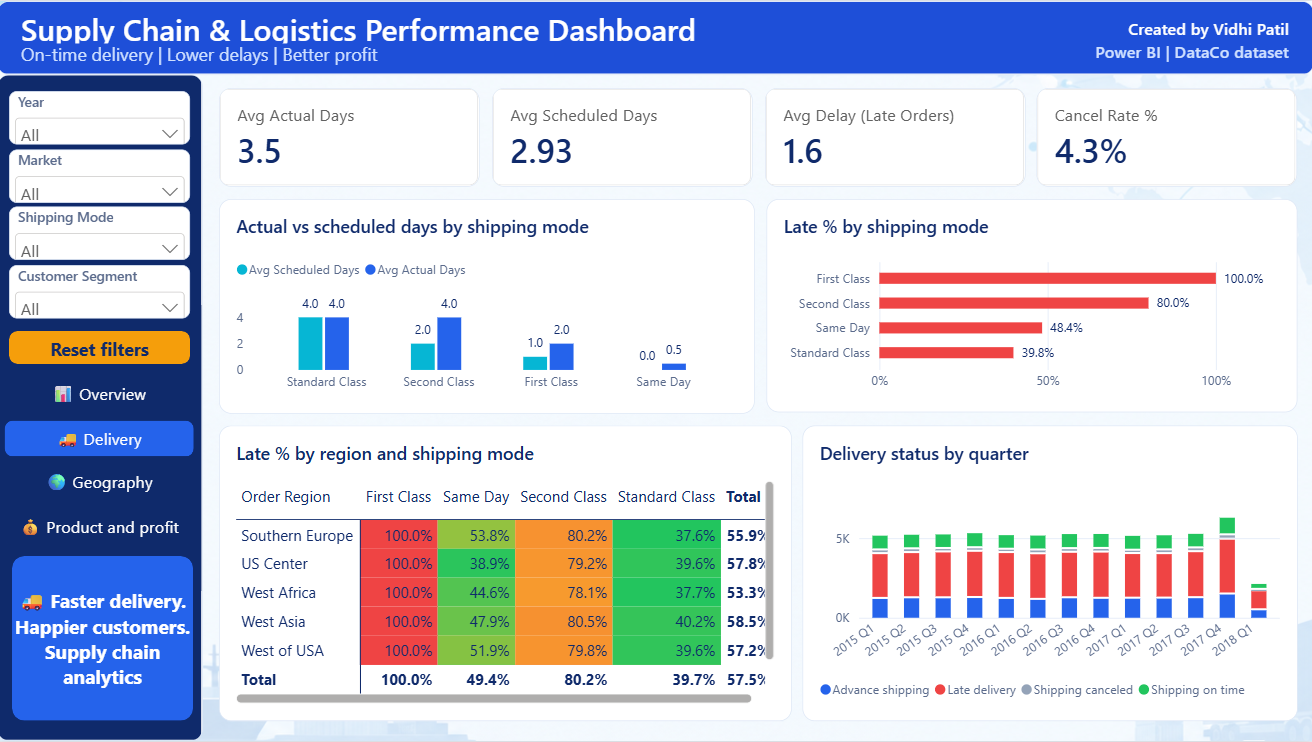

This screenshot's page, from the dashboard's own definition file:
{"tool":"powerbi","page":{"name":"🚚 Delivery","canvas":[1280,720],"ordinal":1},"visuals":[{"type":"shape","box":[0,0,1280,72],"z":0},{"type":"shape","box":[0,72,200,648],"z":1},{"type":"textbox","title":"Supply Chain & Logistics Performance Dashboard","box":[24,8,760,34],"z":2},{"type":"textbox","title":"On-time delivery | Lower delays | Better profit","box":[24,40,600,24],"z":3},{"type":"textbox","title":"Created by Vidhi Patil","box":[980,16,276,22],"z":4},{"type":"textbox","title":"Power BI | DataCo dataset","box":[980,38,276,22],"z":5},{"type":"slicer","fields":{"Values":["Dim_Date.Year"]},"box":[12,88,176,52],"z":6},{"type":"slicer","fields":{"Values":["Fact_Orders.Market"]},"box":[12,144,176,52],"z":7},{"type":"slicer","fields":{"Values":["Fact_Orders.Shipping Mode"]},"box":[12,200,176,52],"z":8},{"type":"slicer","fields":{"Values":["Fact_Orders.Customer Segment"]},"box":[12,256,176,52],"z":9},{"type":"actionButton","box":[12,320,176,32],"z":10},{"type":"pageNavigator","box":[8,364,184,164],"z":11},{"type":"shape","box":[14.6,539.4,176,160],"z":12},{"type":"cardVisual","fields":{"Data":["_Measures.Avg Actual Days"]},"box":[216,84,253,96],"z":13},{"type":"cardVisual","fields":{"Data":["_Measures.Avg Scheduled Days"]},"box":[481,84,253,96],"z":14},{"type":"cardVisual","fields":{"Data":["_Measures.Avg Delay (Late Orders)"]},"box":[746,84,253,96],"z":15},{"type":"cardVisual","fields":{"Data":["_Measures.Cancel Rate %"]},"box":[1011,84,253,96],"z":16},{"type":"clusteredColumnChart","title":"Actual vs scheduled days by shipping mode","fields":{"Category":["Fact_Orders.Shipping Mode"],"Y":["_Measures.Avg Scheduled Days","_Measures.Avg Actual Days"]},"box":[215.8,192.4,520.5,208.5],"z":17},{"type":"clusteredBarChart","title":"Late % by shipping mode","fields":{"Category":["Fact_Orders.Shipping Mode"],"Y":["_Measures.Late Delivery %"]},"box":[747.9,192.4,516.1,207],"z":18},{"type":"pivotTable","title":"Late % by region and shipping mode","fields":{"Columns":["Fact_Orders.Shipping Mode"],"Rows":["Fact_Orders.Order Region"],"Values":["_Measures.Late Delivery %"]},"box":[215.8,412.6,556.9,287.2],"z":19},{"type":"columnChart","title":"Delivery status by quarter","fields":{"Category":["Dim_Date.Year Quarter"],"Series":["Fact_Orders.Delivery Status"],"Y":["_Measures.Total Orders"]},"box":[782.9,412.6,481.1,287.2],"z":20}]}

Visuals, with their boxes in screenshot pixels (x1, y1, x2, y2), scaled from the page's 1280x720 canvas onto the 1312x742 screenshot:
shape: [0,0,1311,74]
shape: [0,74,205,741]
"Supply Chain & Logistics Performance Dashboard" textbox: [25,8,804,43]
"On-time delivery | Lower delays | Better profit" textbox: [25,41,640,66]
"Created by Vidhi Patil" textbox: [1004,16,1287,39]
"Power BI | DataCo dataset" textbox: [1004,39,1287,62]
slicer - Dim_Date.Year: [12,91,193,144]
slicer - Fact_Orders.Market: [12,148,193,202]
slicer - Fact_Orders.Shipping Mode: [12,206,193,260]
slicer - Fact_Orders.Customer Segment: [12,264,193,317]
actionButton: [12,330,193,363]
pageNavigator: [8,375,197,544]
shape: [15,556,195,721]
cardVisual - _Measures.Avg Actual Days: [221,87,481,185]
cardVisual - _Measures.Avg Scheduled Days: [493,87,752,185]
cardVisual - _Measures.Avg Delay (Late Orders): [765,87,1024,185]
cardVisual - _Measures.Cancel Rate %: [1036,87,1296,185]
"Actual vs scheduled days by shipping mode" clusteredColumnChart: [221,198,755,413]
"Late % by shipping mode" clusteredBarChart: [767,198,1296,412]
"Late % by region and shipping mode" pivotTable: [221,425,792,721]
"Delivery status by quarter" columnChart: [802,425,1296,721]
